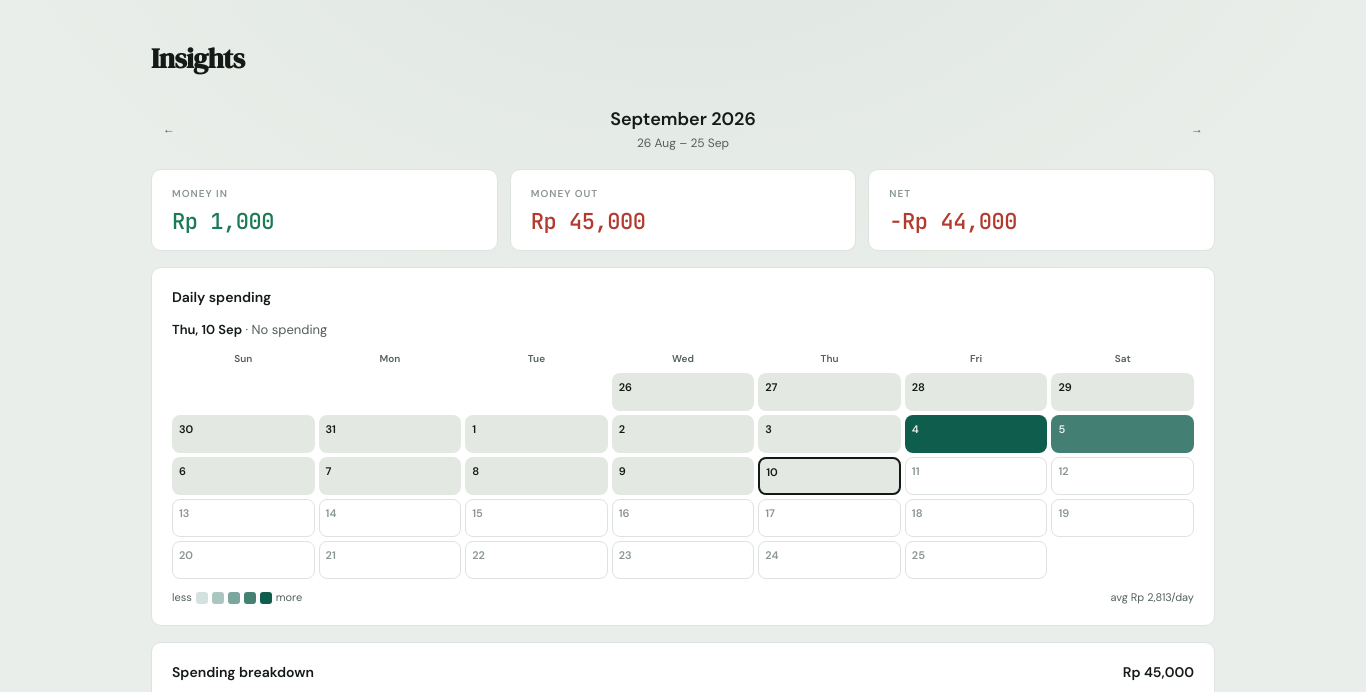
Test: steps back one cycle
This screenshot has width=1366, height=692.
expect the text "September 2026" is shown: met, box [610, 107, 756, 131]
Click the button named "Previous cycle".
click(169, 129)  # box [151, 116, 187, 142]
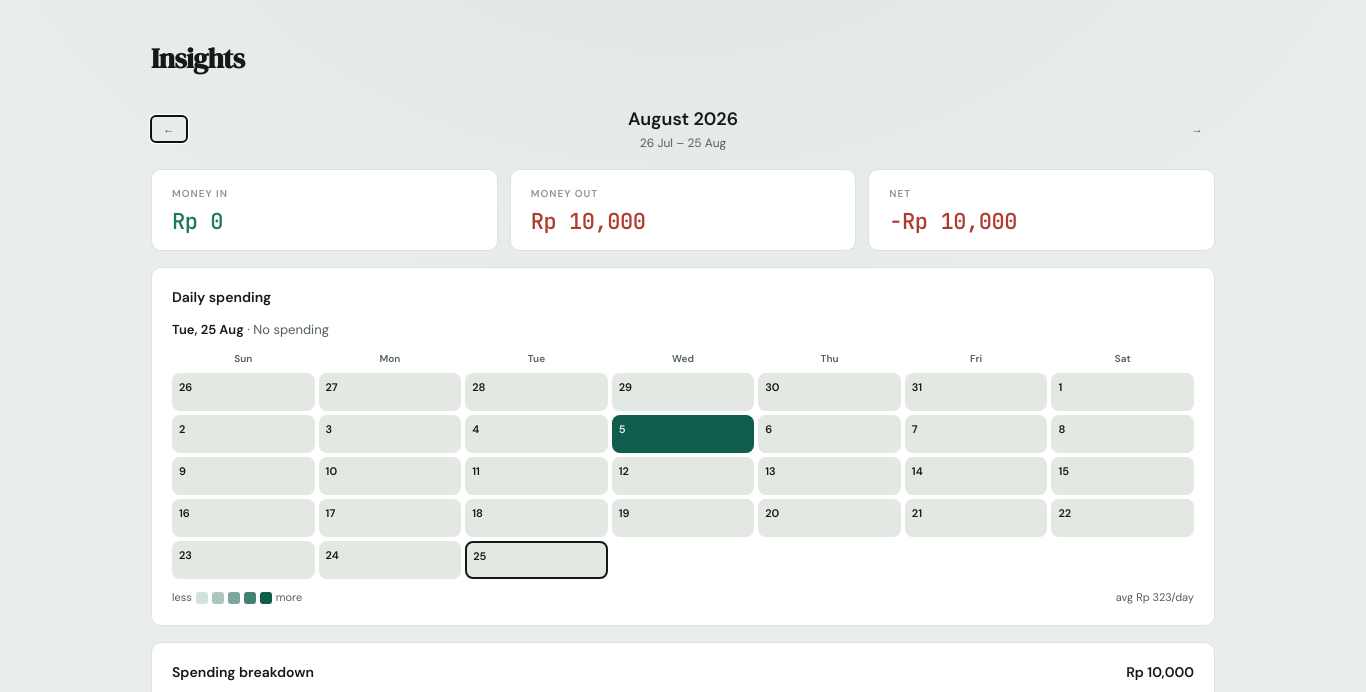
expect the button named "Next cycle" is enabled: met, box [1179, 116, 1215, 142]
expect the text "August 2026" is shown: met, box [628, 107, 738, 131]
